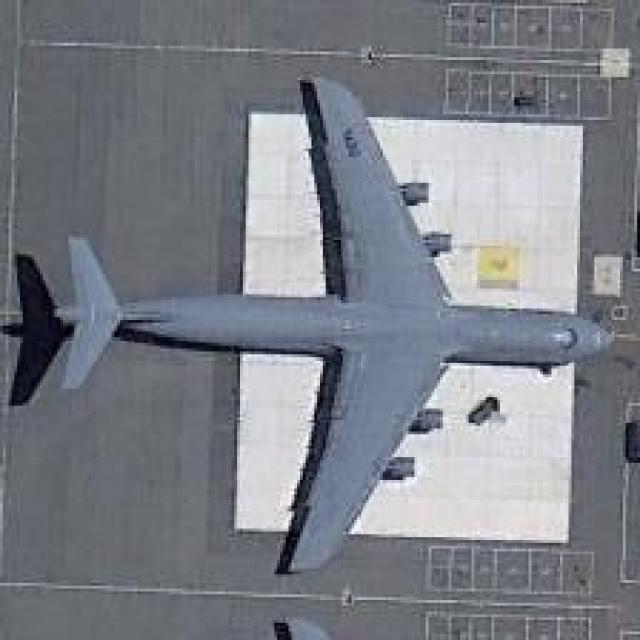C-5_TopDown: (0, 71, 614, 574)
